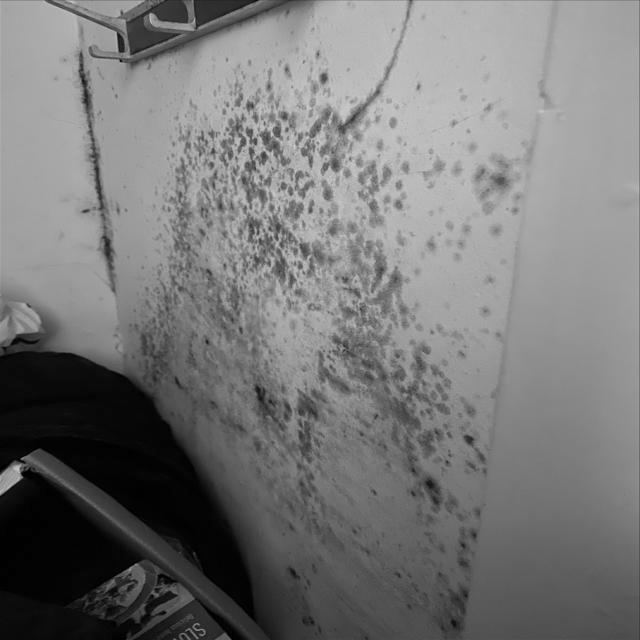stain marks: (109, 30, 550, 640), (40, 36, 131, 304)
